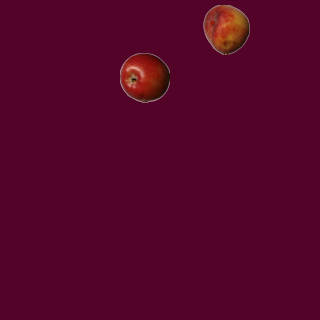Apple Braeburn: (119, 52, 169, 102)
Peach: (201, 4, 251, 54)
